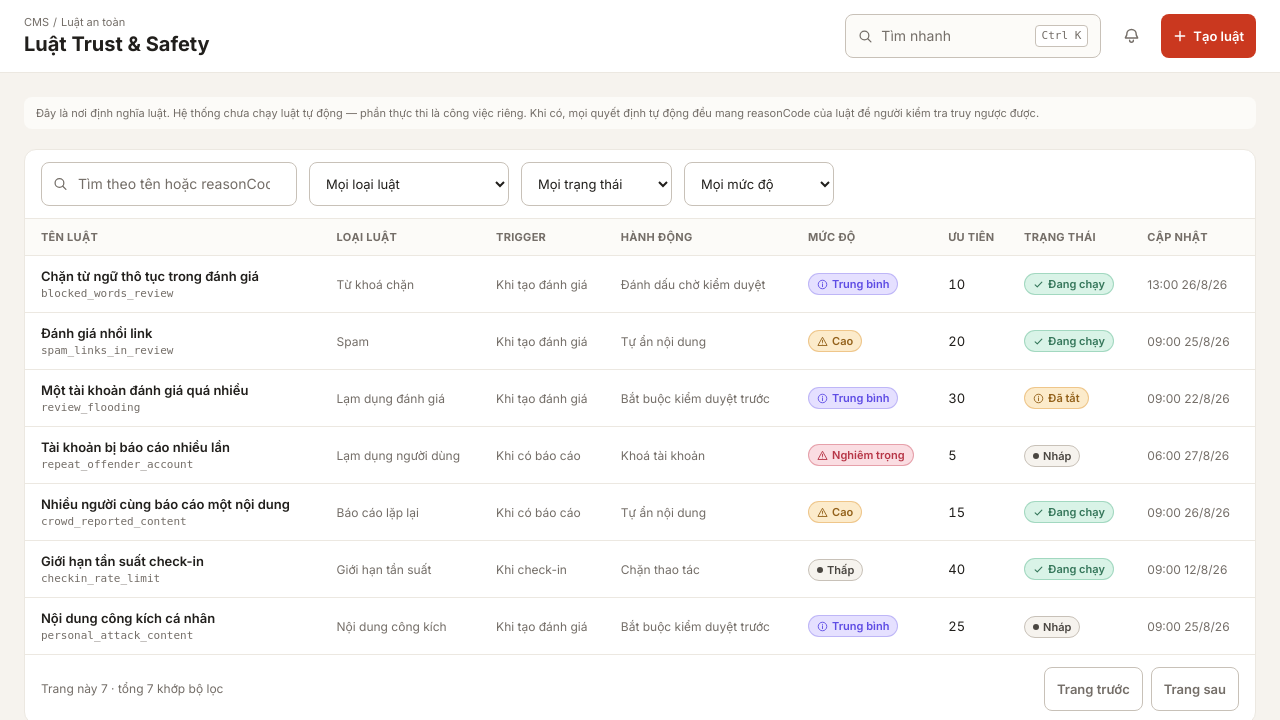
safety rule list (CMS-028) › refuses a reason code the server pattern would reject
Click the button "Tạo luật".
click(1209, 36)  # box [1161,14,1256,58]
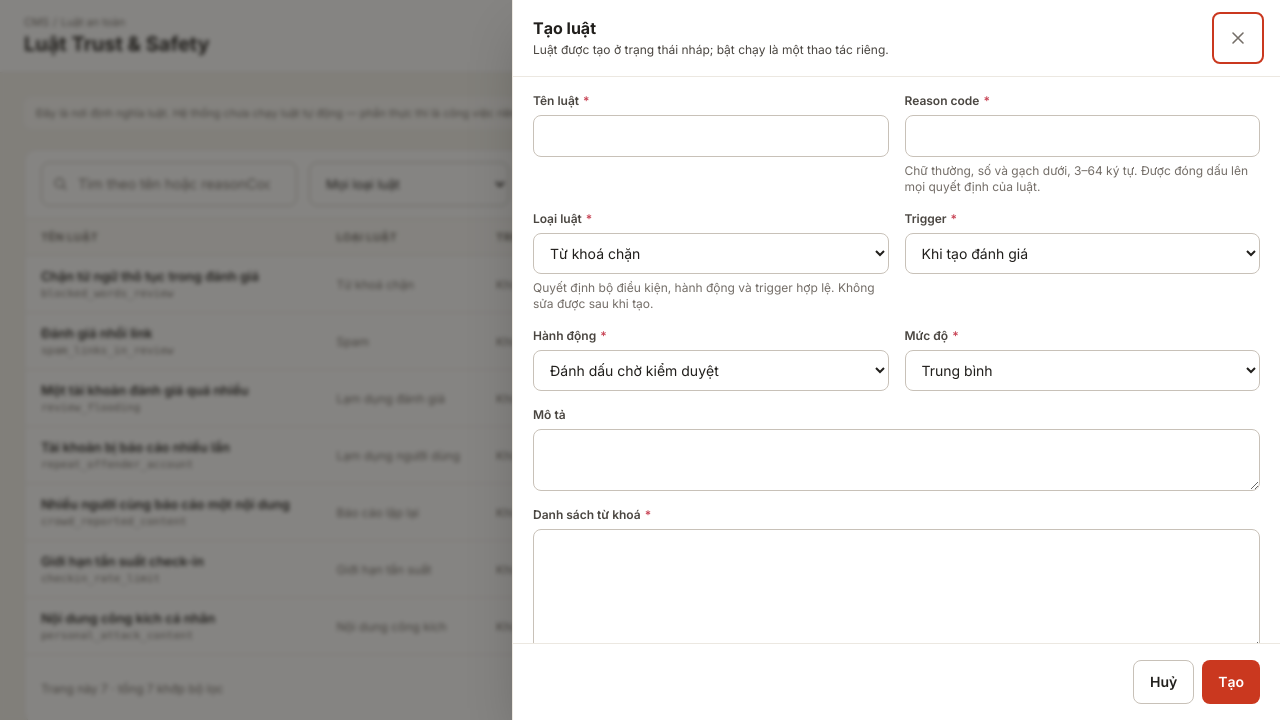
Type "Chặn từ ngữ mới" into the field labelled "Tên luật*".
click(711, 136); type("Chặn từ ngữ mới")  # box [533,115,888,157]
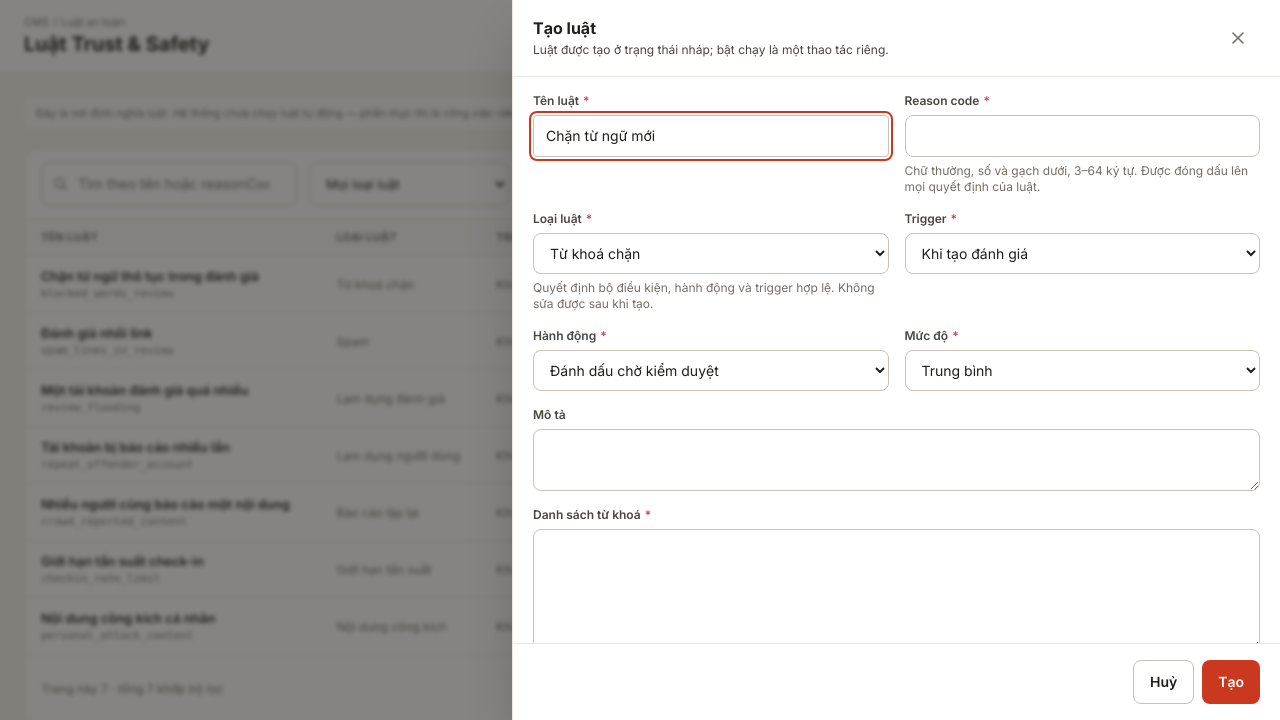
Type "Không Hợp Lệ!" into the field labelled "Reason code*".
click(1082, 136); type("Không Hợp Lệ!")  # box [904,115,1260,157]
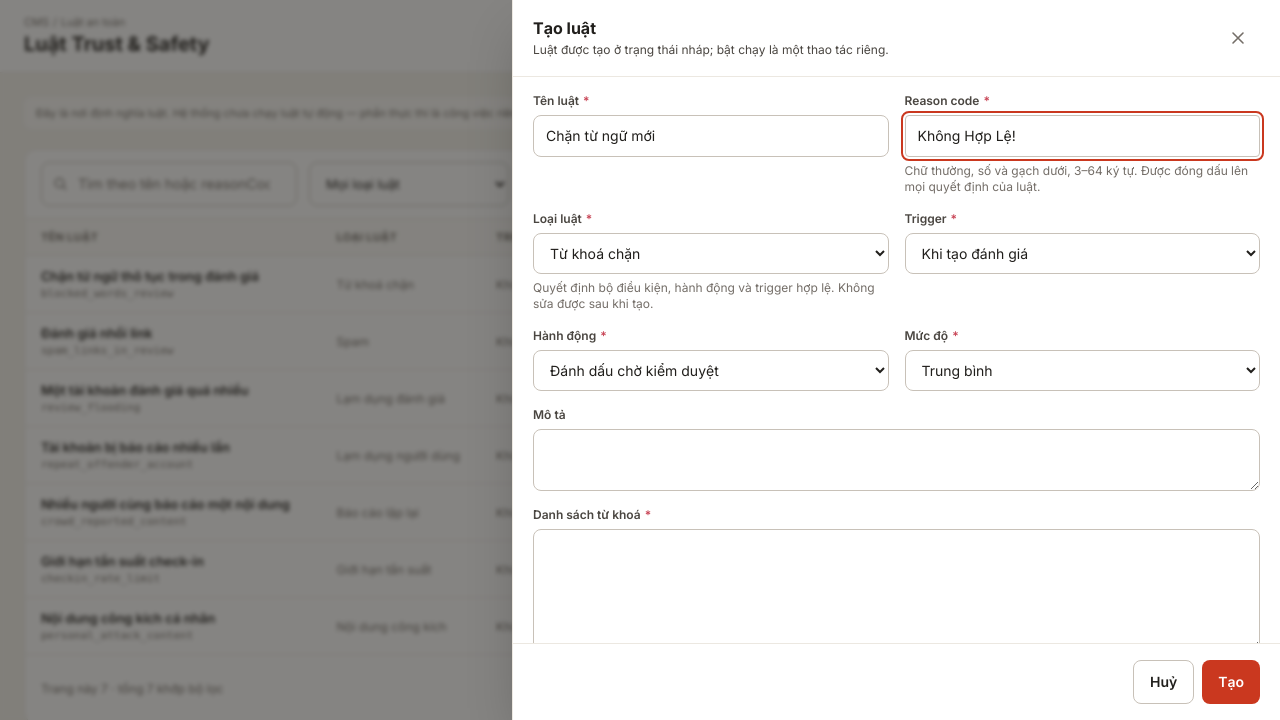
Type "từ xấu" into the text box labelled "Danh sách từ khoá*".
click(896, 590); type("từ xấu")  # box [533,529,1260,651]
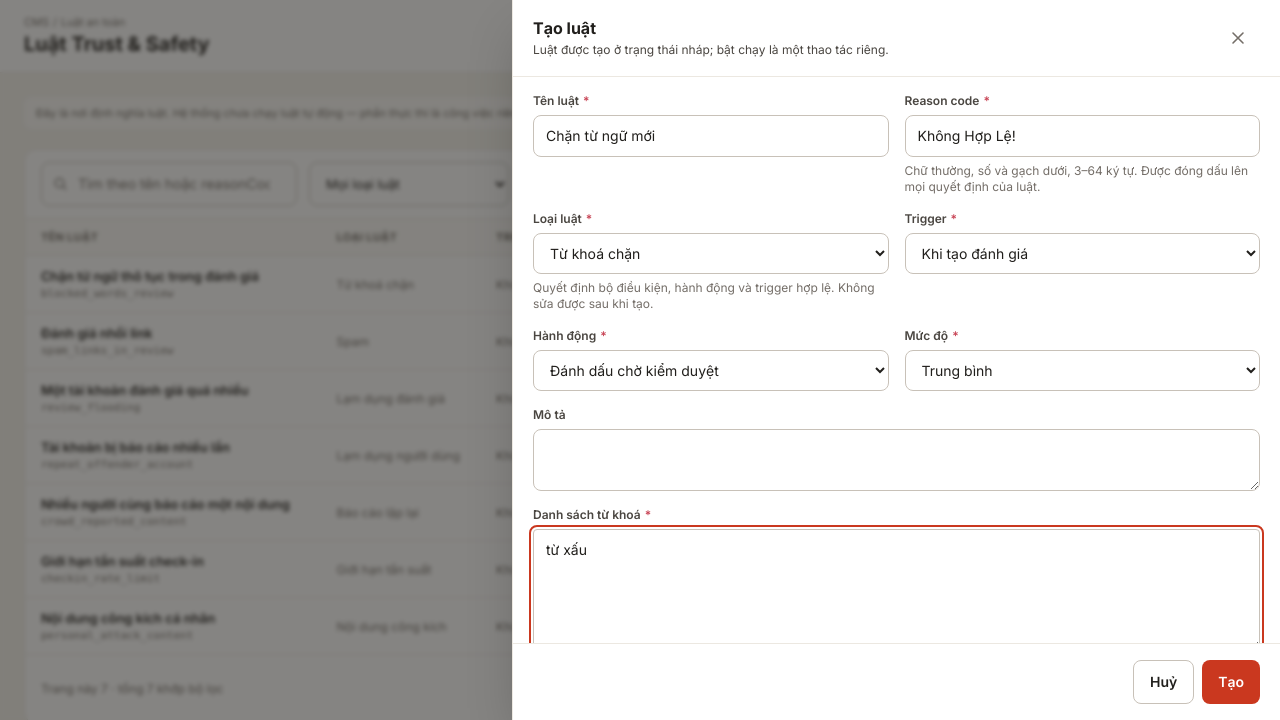
Click the button "Tạo".
click(1231, 682)  # box [1202,660,1260,704]
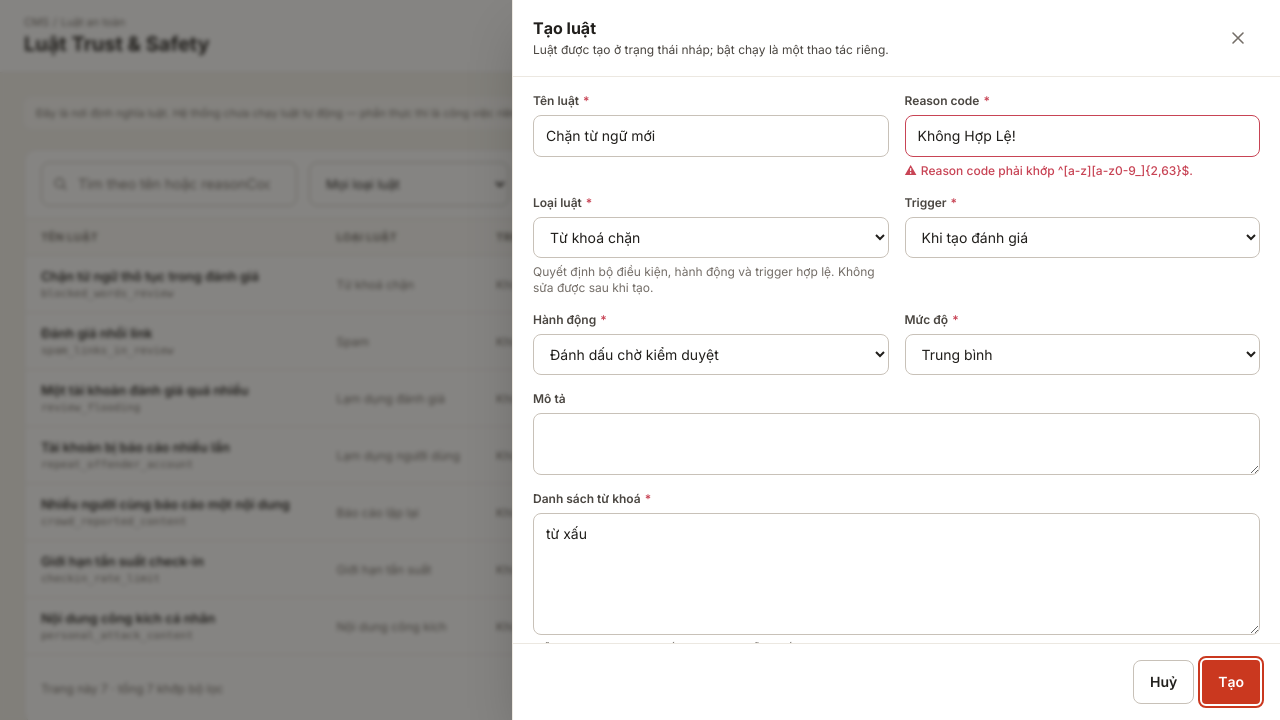
Check: the text "⚠ Reason code phải khớp ^[a-z][a-z0-9_]{2,63}$." is shown, box [904,163,1193,178]
